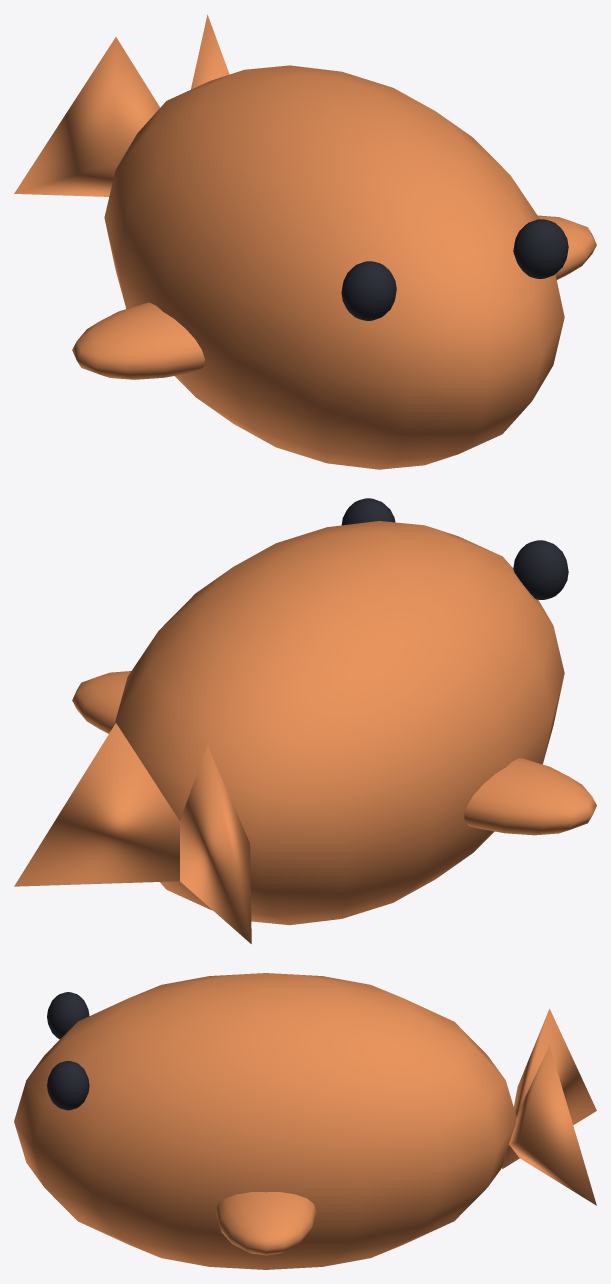
File: word-fish.glb
The picture shows the model from 3 angles, top to bottom: view 1: azimuth 30°, elevation 25°; view 2: azimuth 150°, elevation 25°; view 3: azimuth 270°, elevation 25°; orthographic projection. The views are drawn at different scales.
Parts seen in each view (by area): view 1: round animal body, tail fin, side fin, round eye, round eye.001, side fin.001, tail fin.001; view 2: round animal body, tail fin.001, tail fin, side fin, round eye, side fin.001, round eye.001; view 3: round animal body, tail fin.001, side fin.001, tail fin, round eye.001, round eye.
Part boxes in pixels (x1=…): round animal body: x1=104, y1=65, x2=564, y2=469; tail fin: x1=14, y1=37, x2=159, y2=196; side fin: x1=72, y1=302, x2=204, y2=379; round eye: x1=341, y1=261, x2=396, y2=320; round eye.001: x1=513, y1=219, x2=568, y2=278; side fin.001: x1=537, y1=215, x2=596, y2=279; tail fin.001: x1=191, y1=14, x2=229, y2=89; round animal body: x1=114, y1=521, x2=564, y2=925; tail fin.001: x1=14, y1=723, x2=179, y2=886; tail fin: x1=180, y1=745, x2=251, y2=943; side fin: x1=464, y1=758, x2=596, y2=835; round eye: x1=513, y1=540, x2=568, y2=599; side fin.001: x1=72, y1=671, x2=131, y2=733; round eye.001: x1=341, y1=498, x2=395, y2=525; round animal body: x1=14, y1=973, x2=516, y2=1269; tail fin.001: x1=509, y1=1045, x2=596, y2=1205; side fin.001: x1=215, y1=1192, x2=316, y2=1255; tail fin: x1=502, y1=1008, x2=596, y2=1168; round eye.001: x1=47, y1=1061, x2=89, y2=1110; round eye: x1=47, y1=992, x2=89, y2=1039.
Size of the model in its own units: 1.26 by 0.76 by 1.5.
